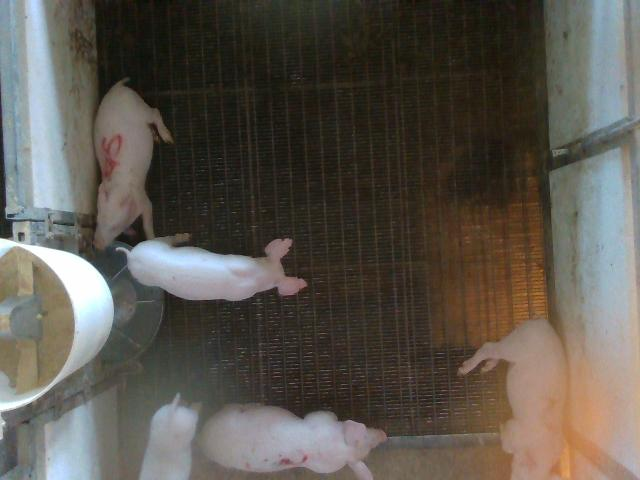pig-2: (458, 319, 566, 478)
pig-3: (199, 404, 386, 479)
pig-5: (94, 78, 174, 249)
